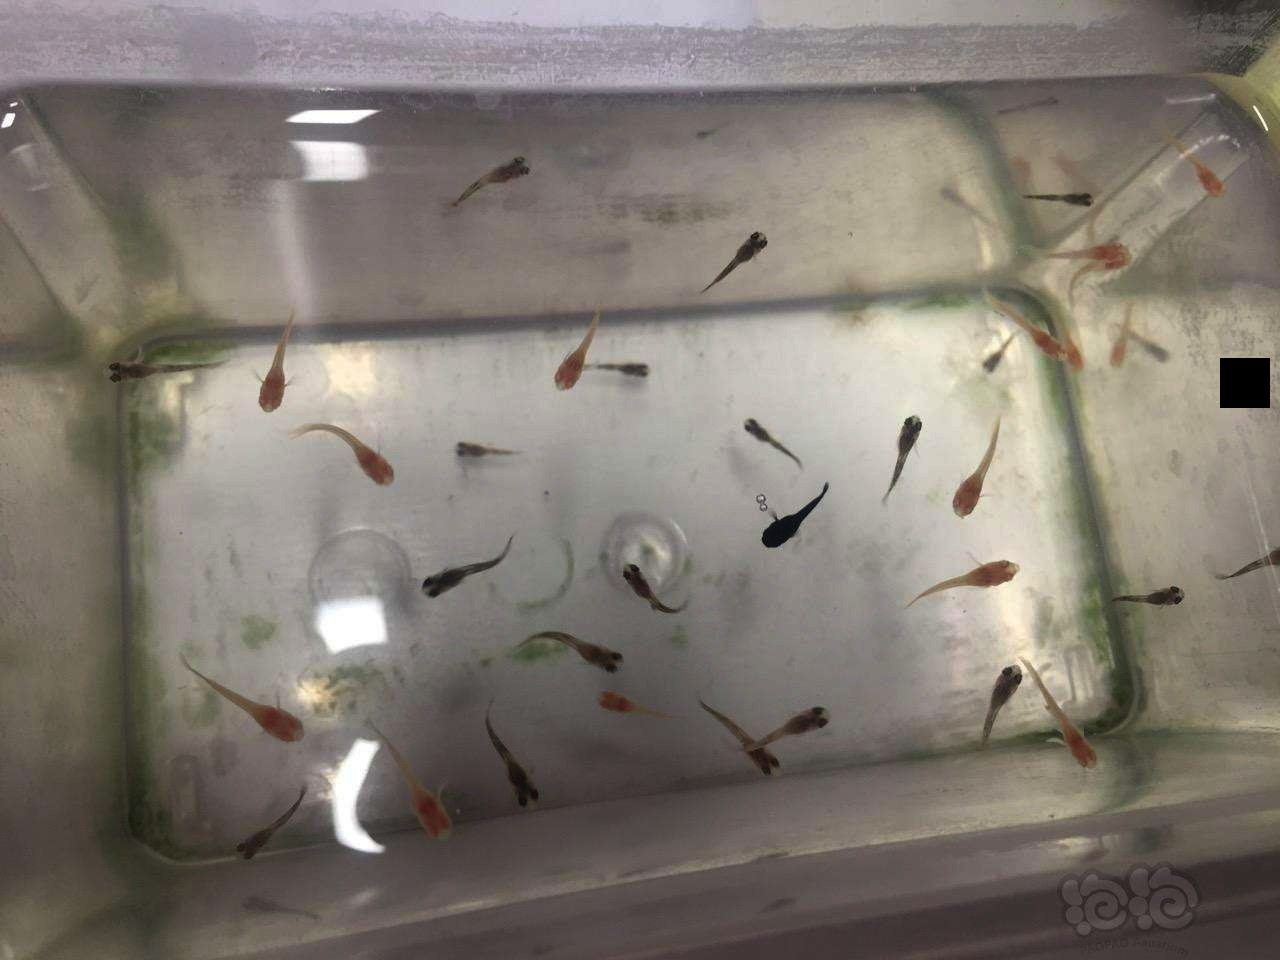fry: (201, 657, 326, 759), (374, 754, 468, 870), (203, 795, 316, 875), (695, 210, 798, 298), (307, 409, 408, 494), (523, 305, 607, 401), (398, 534, 505, 609), (439, 143, 560, 208), (233, 325, 310, 424), (1039, 681, 1113, 785), (611, 549, 707, 628), (924, 547, 1037, 614), (81, 341, 226, 389), (489, 714, 550, 824), (521, 621, 640, 678), (947, 431, 1008, 534), (732, 491, 834, 553), (972, 650, 1029, 759), (718, 712, 789, 798), (747, 699, 872, 746), (734, 396, 808, 473), (874, 405, 933, 498), (581, 681, 676, 733), (1214, 527, 1280, 595), (963, 334, 1033, 394), (1104, 569, 1192, 615), (442, 430, 527, 478), (1043, 294, 1089, 383), (1092, 302, 1142, 379), (1065, 257, 1140, 305), (1027, 175, 1110, 217), (1040, 227, 1132, 262), (1172, 146, 1230, 202), (1018, 314, 1069, 373), (594, 347, 662, 389), (1136, 327, 1182, 366)
